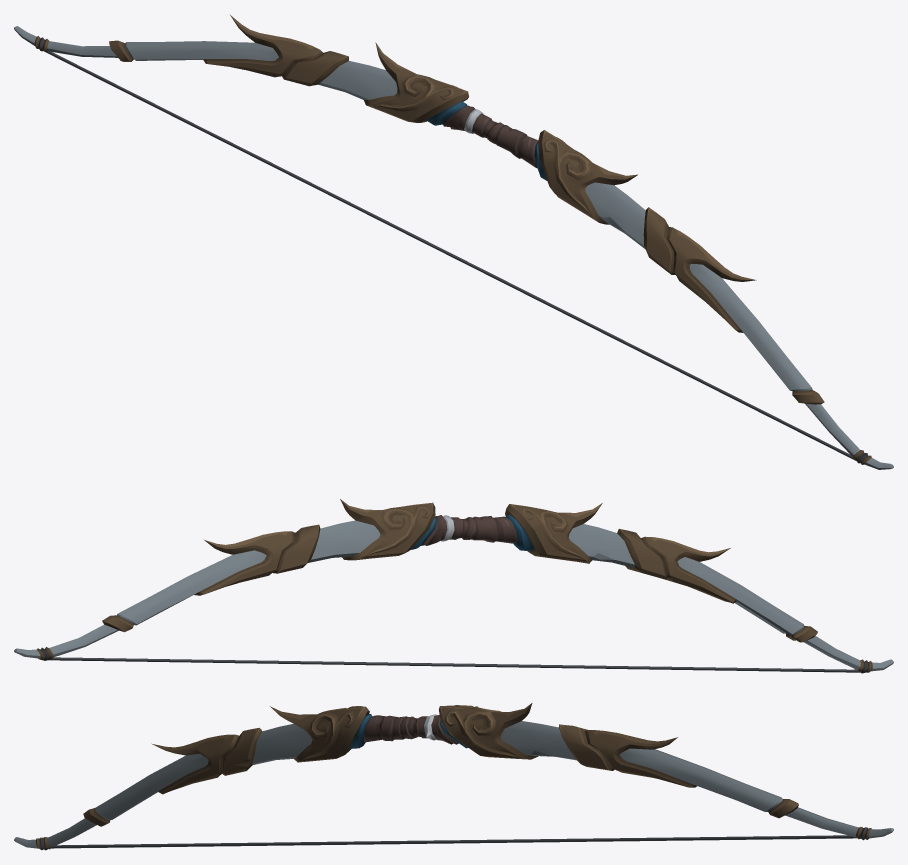
File: bw-longbow-03.glb
3 renders of one model, top to bottom at view 1: azimuth 90°, elevation 25°; view 2: azimuth 150°, elevation 25°; view 3: azimuth 270°, elevation 25°, orthographic.
Visible parts, largest first — view 1: bw-longbow-03; view 2: bw-longbow-03; view 3: bw-longbow-03.
Part boxes in pixels (bbox=[...]): bw-longbow-03: bbox=[14, 14, 893, 469]; bw-longbow-03: bbox=[14, 499, 893, 673]; bw-longbow-03: bbox=[14, 703, 893, 850].
Size of the model in its own units: 1.02 by 0.6267 by 1.75.
1 material, 1 textured.
